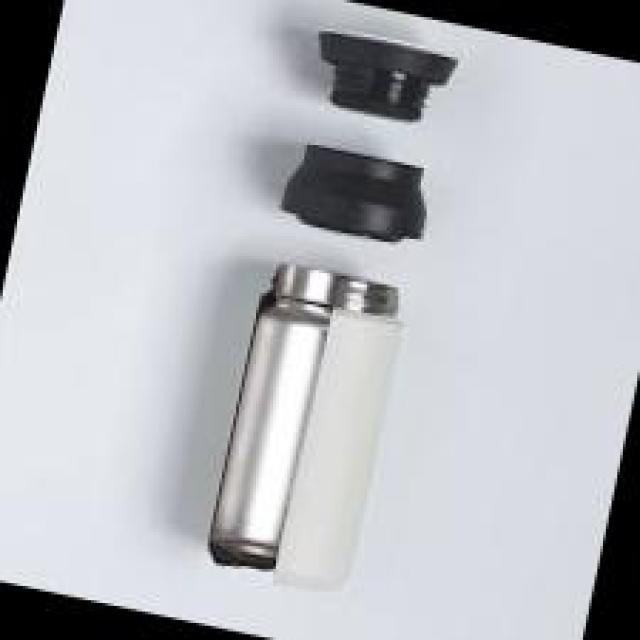bottle: (202, 25, 458, 588)
